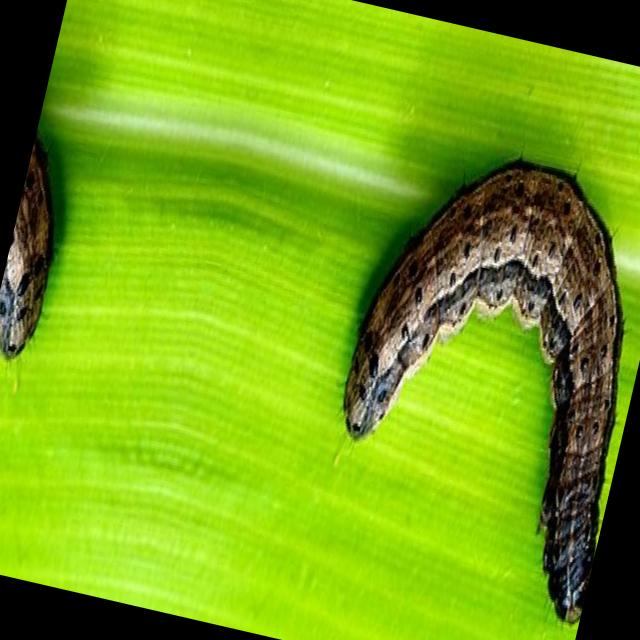Armyworm: (286, 84, 640, 640), (1, 124, 102, 432)
